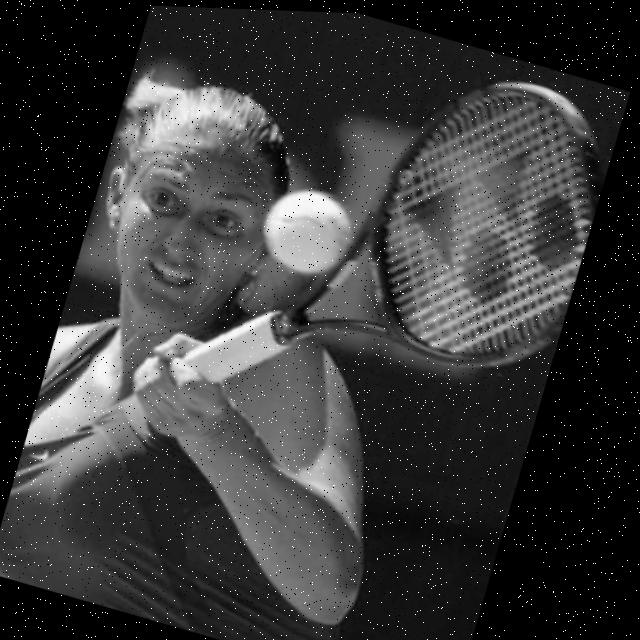face: (82, 96, 296, 355)
